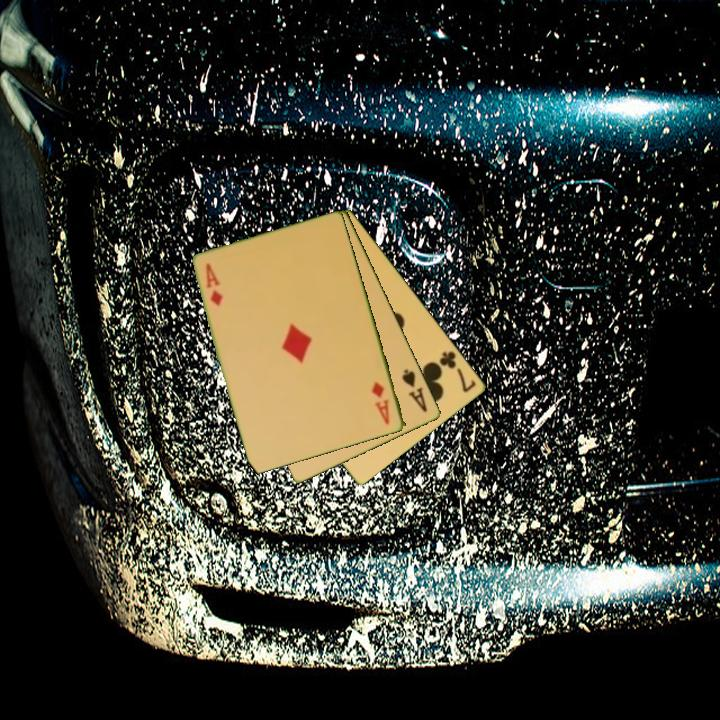7c: (436, 347, 479, 396)
Ad: (368, 379, 393, 428), (203, 260, 226, 309)
As: (399, 366, 431, 415)
